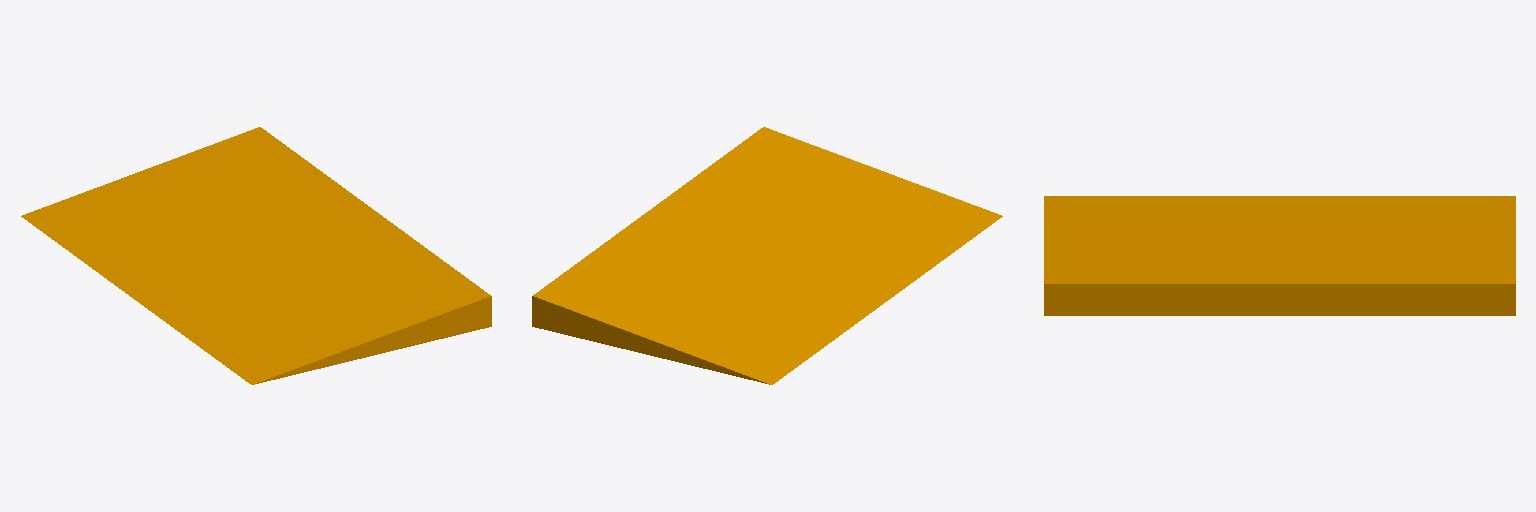
URDF robot description (wedge_7):
<?xml version="1.0" ?>
<robot name="wedge_7">
  <link name="wedge_7__link_2">
    <inertial>
      <mass value="1"/>
      <origin rpy="0      0     -1.5708" xyz="0.5 0.5 0"/>
      <inertia ixx="0.166667" ixy="0" ixz="0" iyy="0.166667" iyz="0" izz="0.166667"/>
    </inertial>
    <collision name="wedge_7__collision">
      <origin rpy="0      0     -1.5708" xyz="0 0 0"/>
      <geometry>
        <mesh filename="package://wedge_7/wedge_7.stl" scale="0.5 0.6 0.6"/>
      </geometry>
    </collision>
    <visual name="wedge_7__visual">
      <origin rpy="0      0     -1.5708" xyz="0 0 0"/>
      <geometry>
        <mesh filename="package://wedge_7/wedge_7.stl" scale="0.5 0.6 0.6"/>
      </geometry>
    </visual>
  </link>
</robot>

--- Facts derived from the render (not from the file) ---
3 views of the same robot in one strip: view 1: azimuth 30°, elevation 25°; view 2: azimuth 150°, elevation 25°; view 3: azimuth 270°, elevation 25° (orthographic).
Model wedge_7 with 1 links and 0 joints (none), rooted at wedge_7__link_2, posed all joints at 0.
Links seen in each view (by area): view 1: wedge_7__link_2; view 2: wedge_7__link_2; view 3: wedge_7__link_2.
Link boxes in pixels (x1,y1,x2,y2): wedge_7__link_2: [21, 127, 491, 384]; wedge_7__link_2: [532, 127, 1002, 384]; wedge_7__link_2: [1044, 196, 1515, 315].
Bounding box of the posed robot: 0.9 × 1.5 × 0.1107 m (x, y, z).
1 mesh visuals loaded from 1 distinct referenced files (1 binary STL).